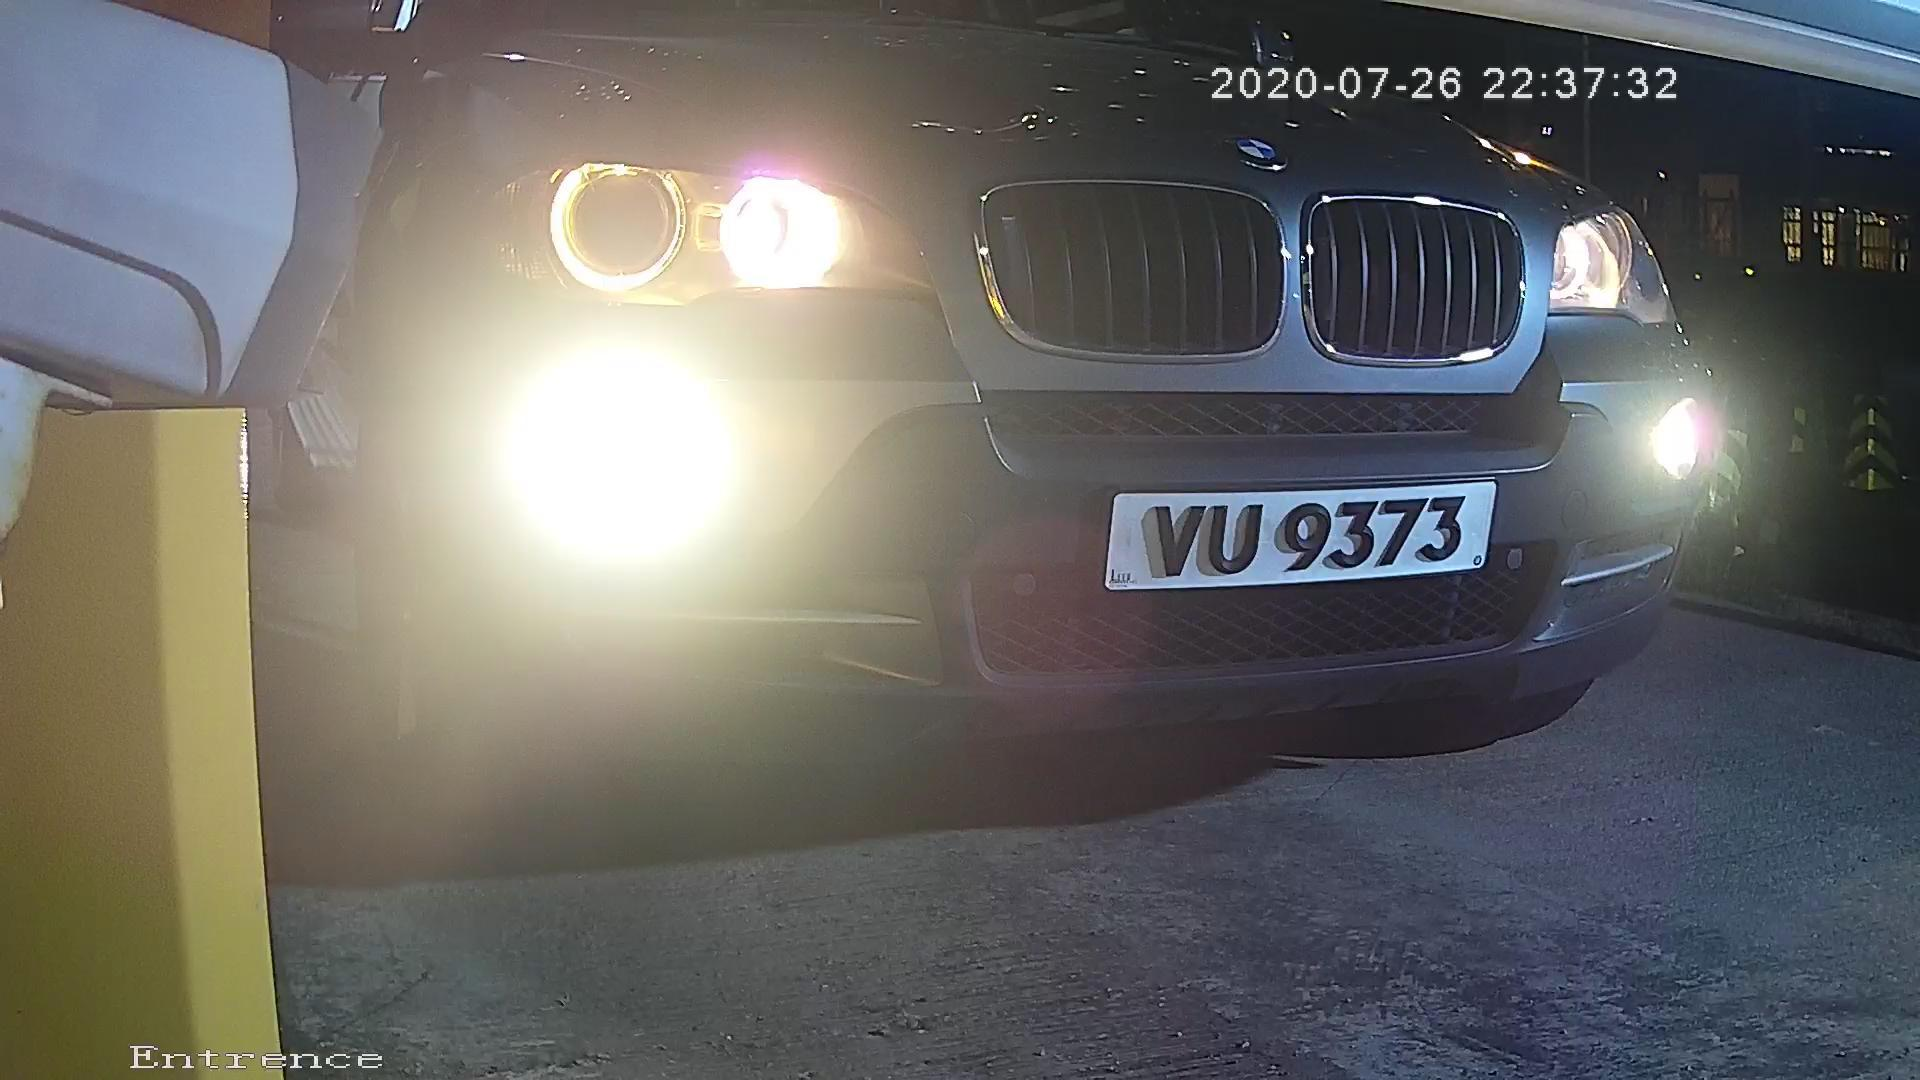License Plate: (1063, 463, 1518, 603)
